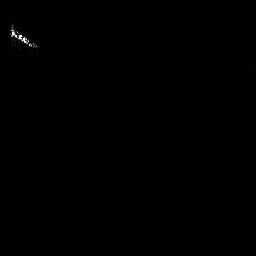ship: (5, 20, 43, 51)
